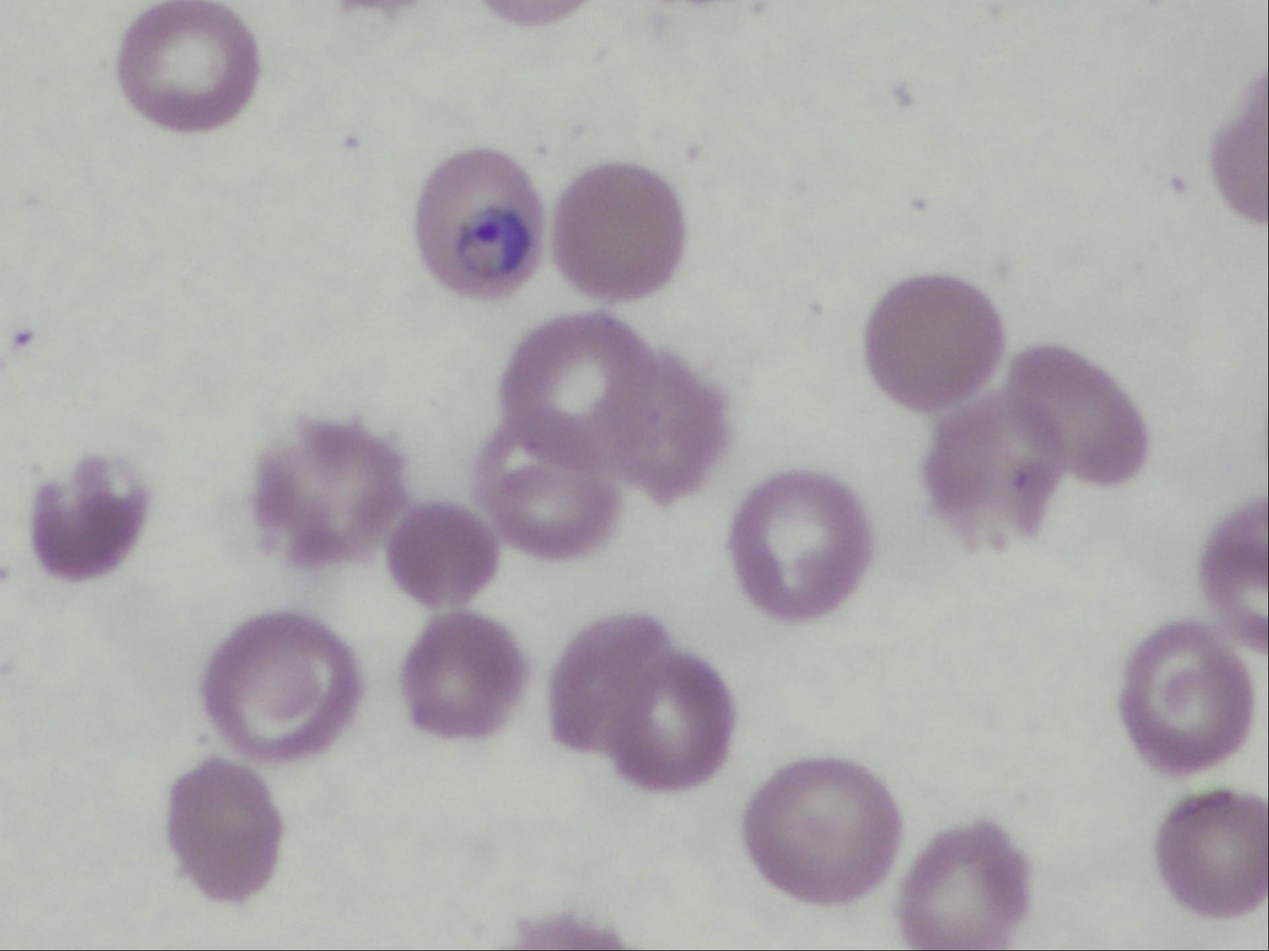Infected: (416, 149, 543, 298)
Uninfected: (552, 616, 730, 788), (500, 318, 661, 474), (204, 614, 357, 762), (251, 418, 406, 564), (744, 759, 896, 903), (924, 395, 1063, 548), (728, 473, 870, 619), (1010, 344, 1149, 487), (863, 276, 1007, 411), (606, 355, 733, 503), (1121, 627, 1250, 771), (118, 2, 258, 132), (553, 166, 686, 298), (165, 761, 280, 903), (479, 438, 616, 557), (899, 825, 1026, 947), (402, 615, 523, 738), (30, 457, 147, 578), (1153, 792, 1264, 913), (387, 502, 500, 607)
